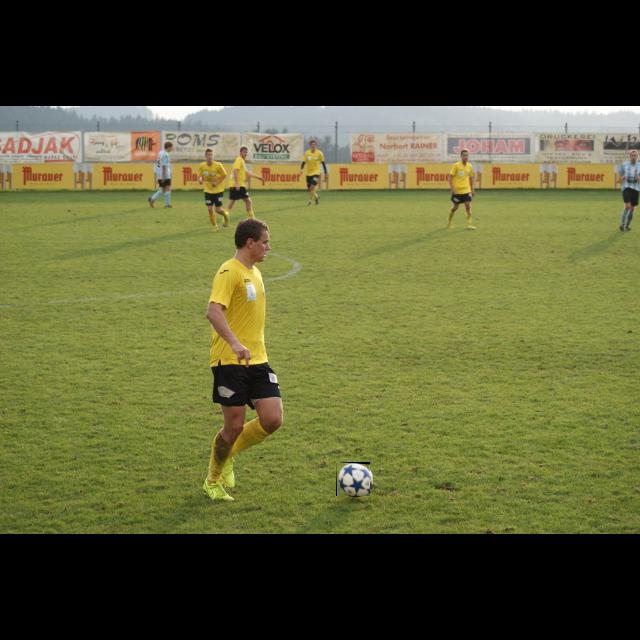Football: (336, 462, 370, 496)
